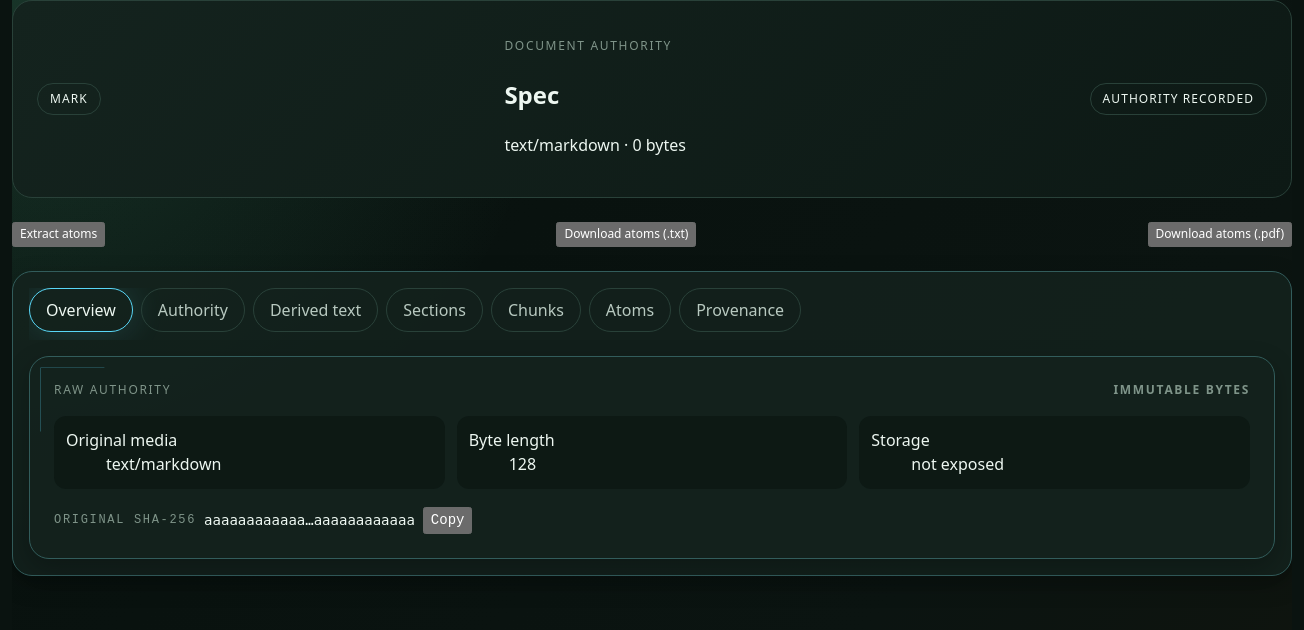
Test case: source workspace › surfaces an alert instead of doing nothing when the atoms download fails
Expected: the heading "Spec" is shown, [504,78,559,110]
Click the button "Download atoms (.txt)". click: {"x": 626, "y": 235}
box: [556,222,696,247]
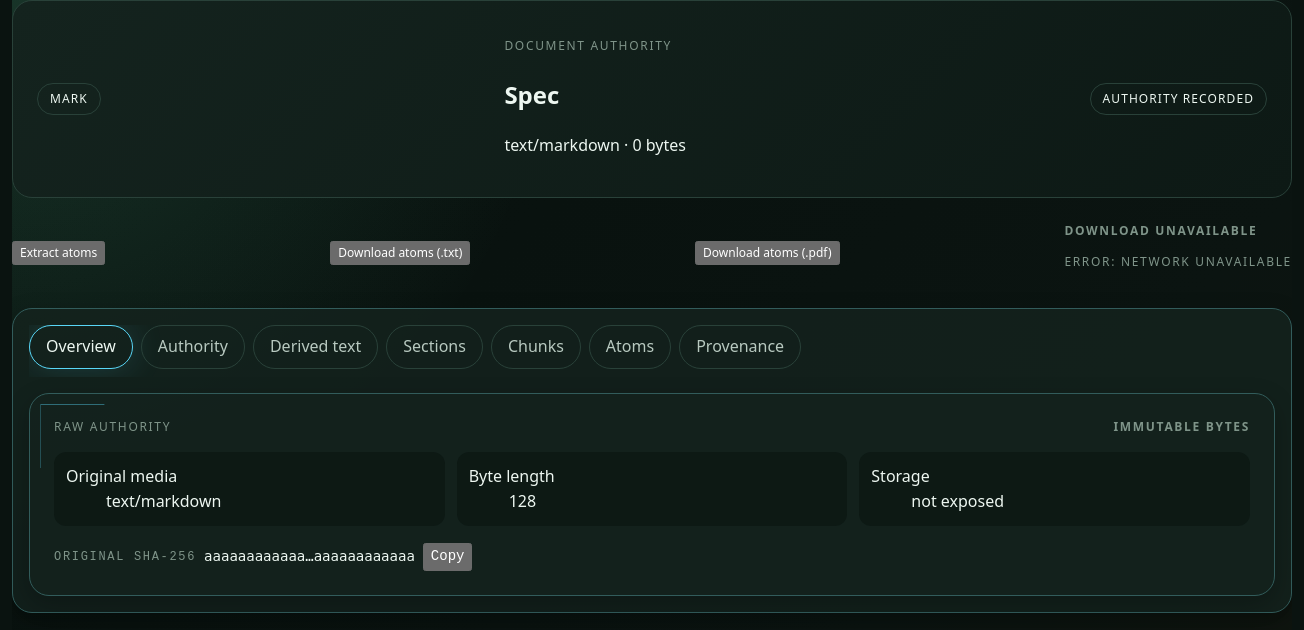
Result: the text "Download unavailable" is shown at [1064,222,1257,239]
